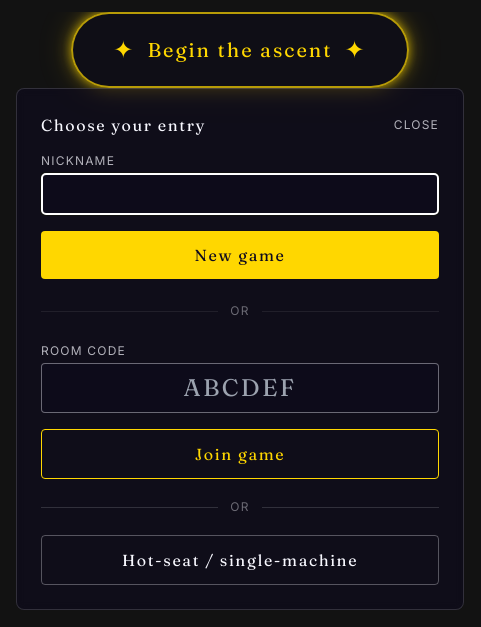
it: PrimaryCTA › expanded panel exposes a Close affordance that collapses it
Click the button with aria-label "collapse and return to the portal" at point(416, 125), box left=394, top=117, right=439, bottom=133
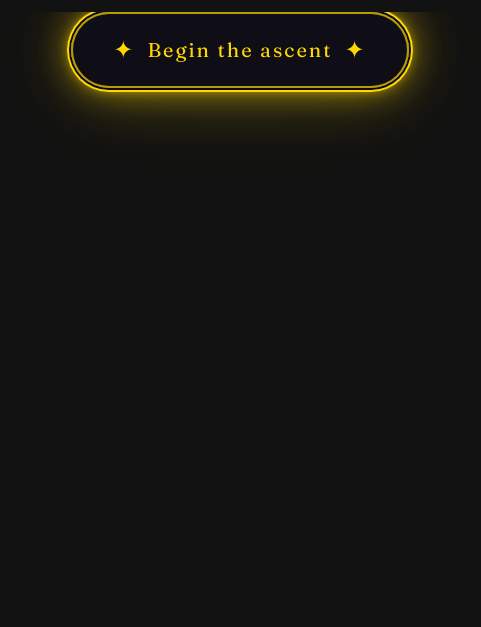
Expected: the button "✦ Begin the ascent ✦" is shown, left=71, top=12, right=409, bottom=88
Expected: the button "New game" is gone
